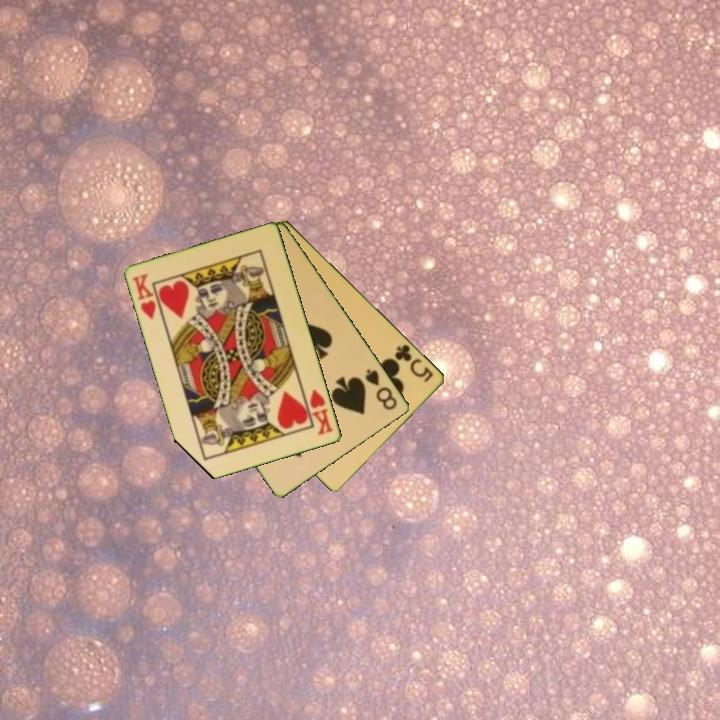5c: (391, 340, 437, 385)
8s: (362, 365, 400, 413)
Kh: (300, 386, 337, 438), (129, 270, 159, 323)
